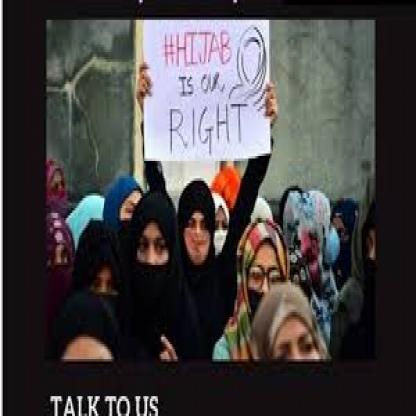BANNER: (137, 20, 277, 163)
